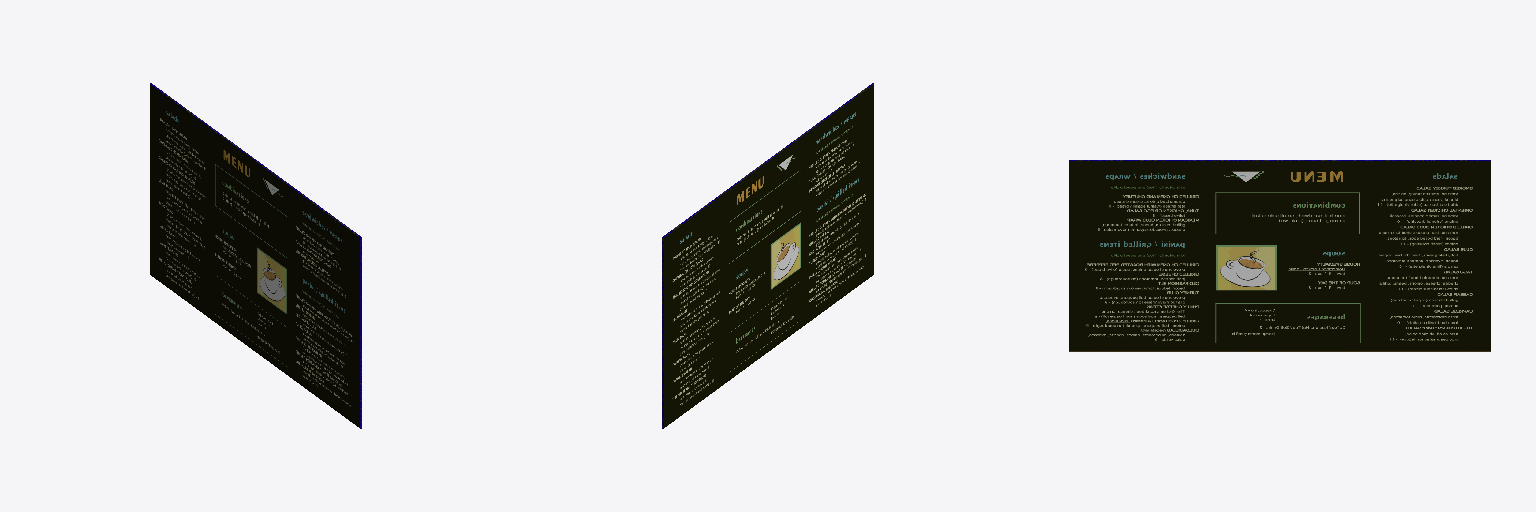
3 renders of one model, left to right at view 1: azimuth 30°, elevation 25°; view 2: azimuth 150°, elevation 25°; view 3: azimuth 270°, elevation 25°, orthographic.
Visible parts, largest first — view 1: SketchUp.012_ID1922; view 2: SketchUp.012_ID1922; view 3: SketchUp.012_ID1922.
Part boxes in pixels (x1,y1,x2,y2): SketchUp.012_ID1922: (150,83,361,428); SketchUp.012_ID1922: (662,83,873,428); SketchUp.012_ID1922: (1069,160,1490,351).
Size of the model in its own units: 0.01 by 1 by 2.
6 materials, 5 textured.